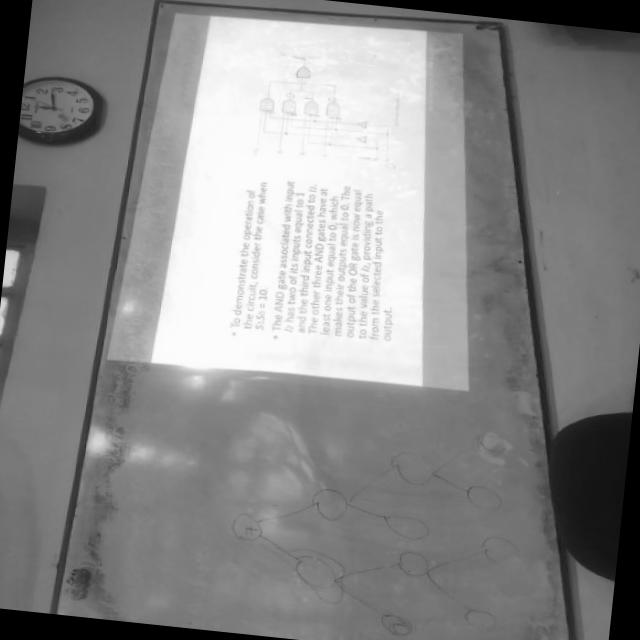Slide: (106, 10, 468, 390)
White-board: (59, 0, 570, 640)
